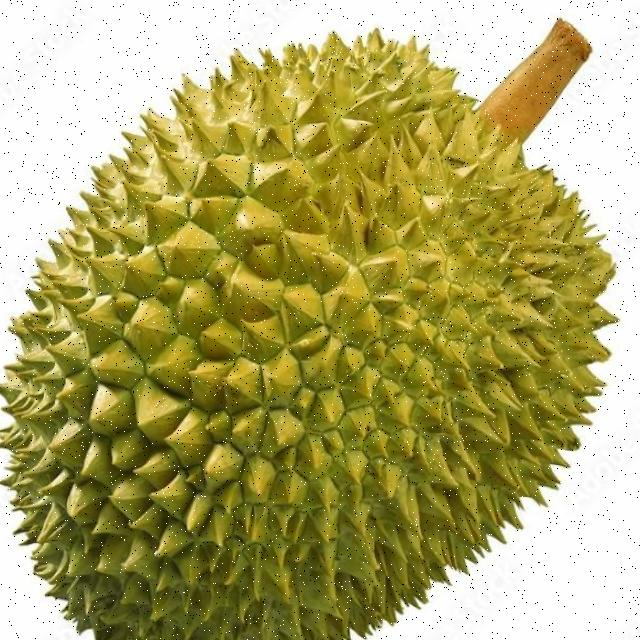UNRIPE: (0, 29, 614, 640)
